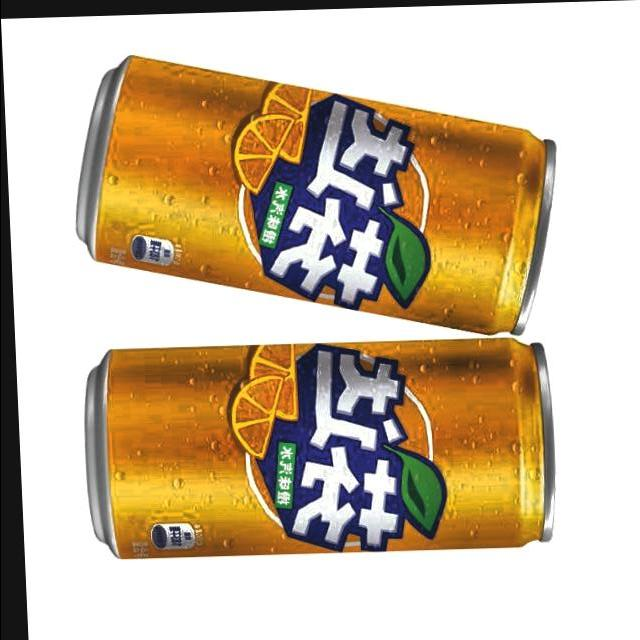litter: (58, 27, 571, 346), (69, 328, 564, 566)
